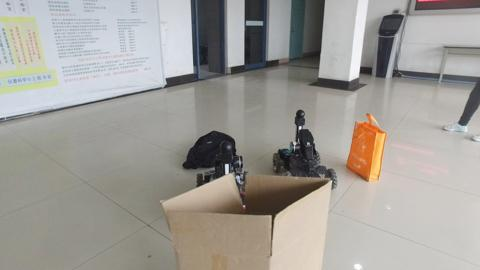bag: (348, 111, 383, 182)
chariot: (275, 110, 336, 191)
